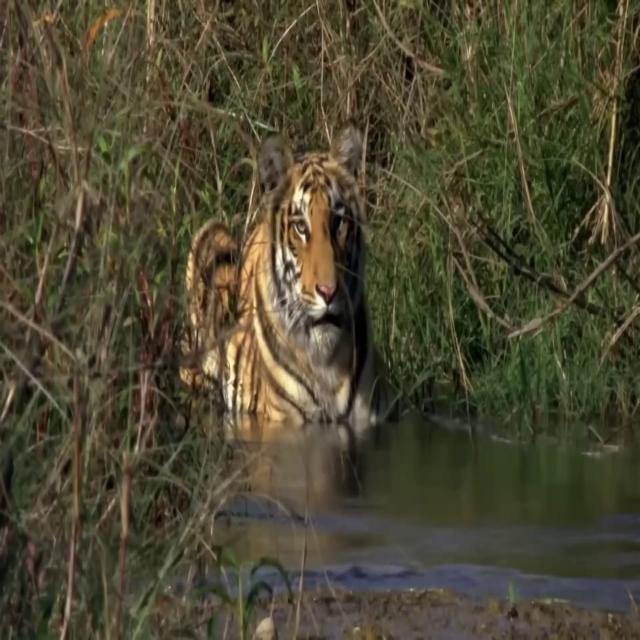tiger: (178, 118, 400, 426)
